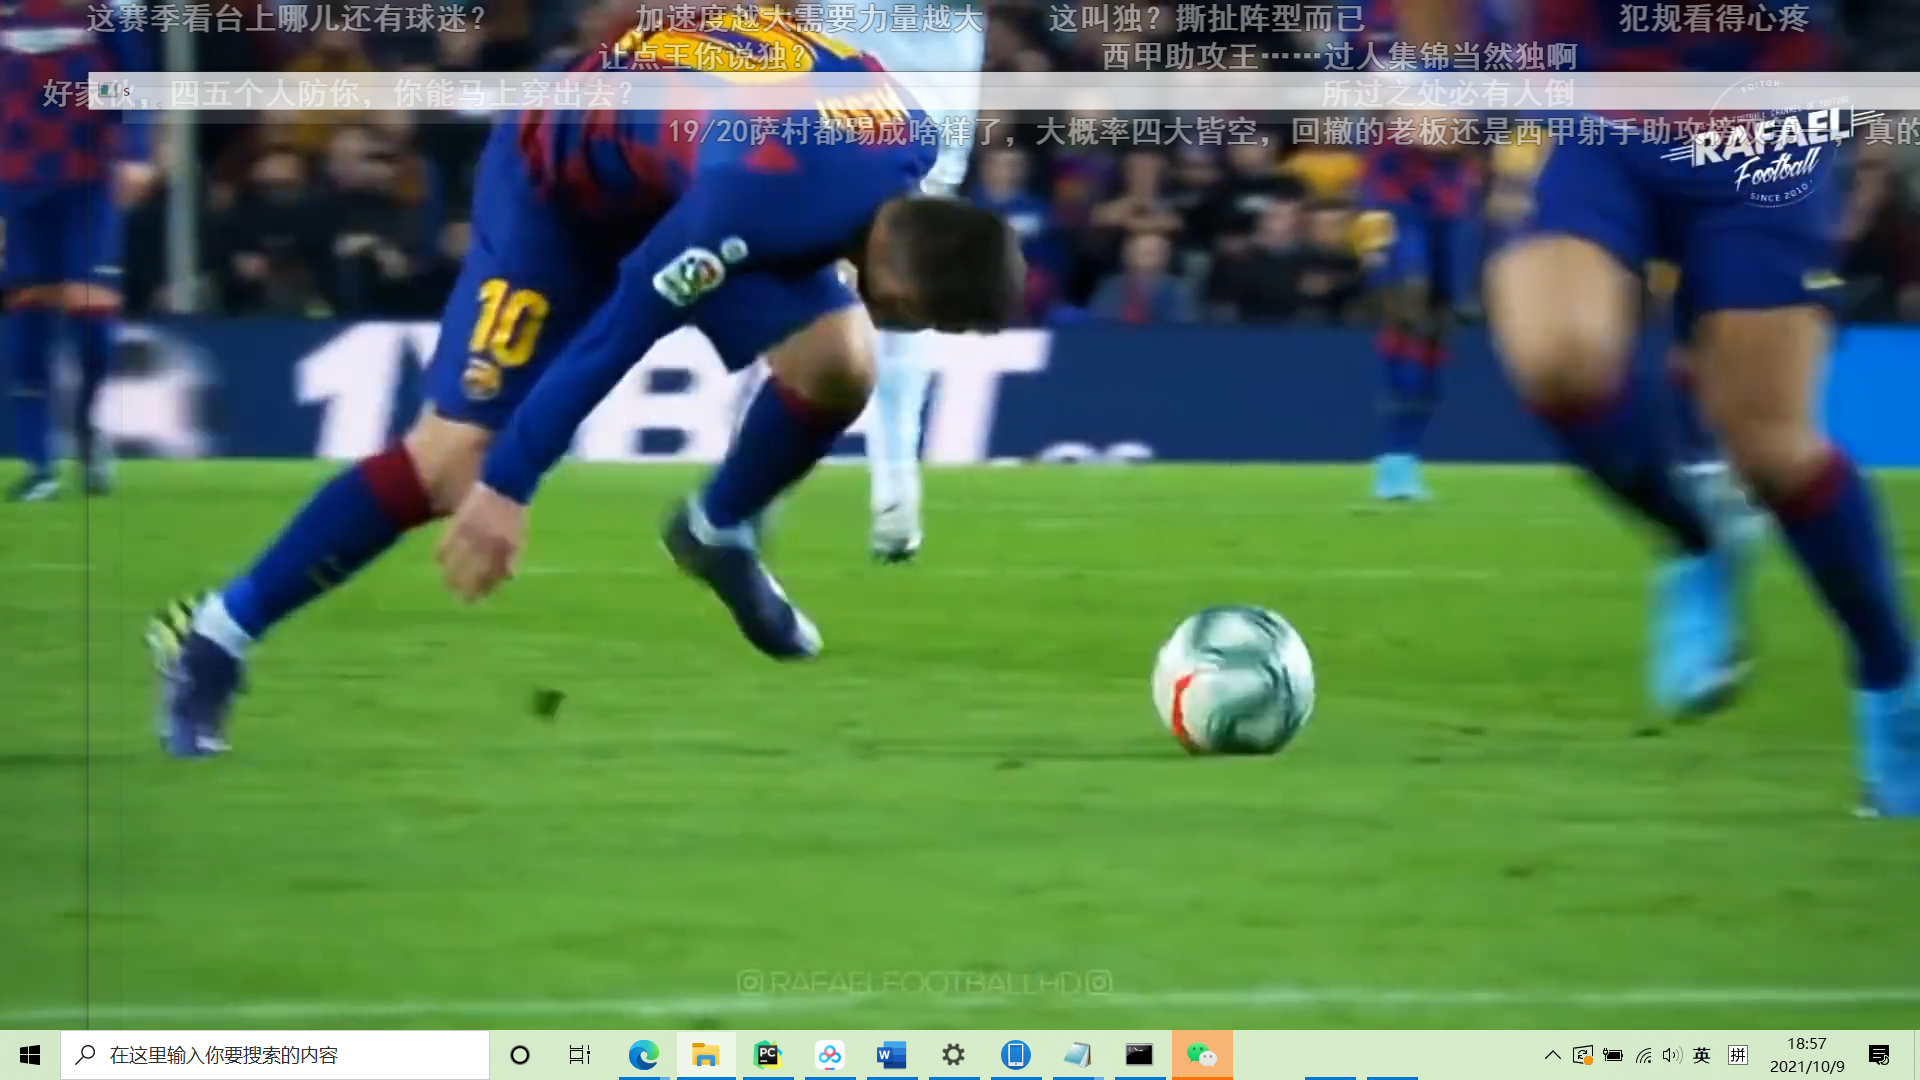ft: (1135, 595, 1323, 769)
